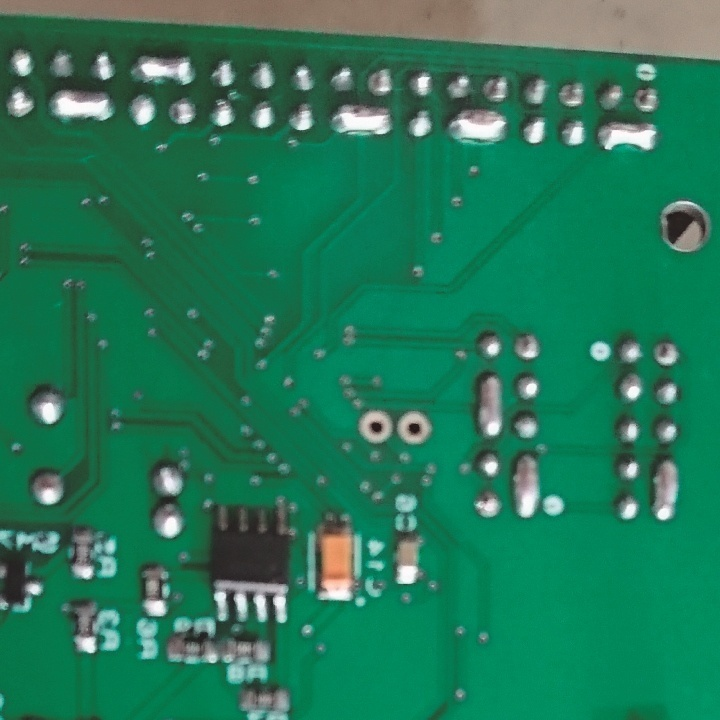F: (396, 405, 428, 448), (1, 84, 36, 123), (358, 406, 393, 440), (630, 83, 663, 117), (511, 332, 542, 363), (474, 488, 502, 521), (484, 69, 510, 104), (169, 94, 194, 128), (556, 78, 584, 108), (369, 63, 394, 96), (653, 340, 679, 368)
P: (596, 117, 666, 158), (50, 86, 113, 126), (129, 49, 194, 86), (450, 106, 509, 146), (329, 101, 391, 138), (513, 449, 540, 521), (651, 455, 679, 523), (476, 370, 504, 438)
